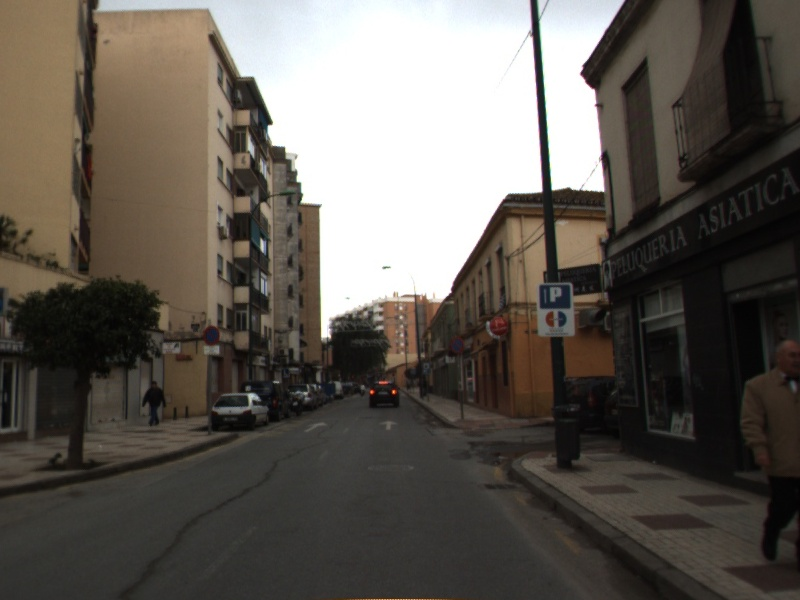STRAIGHT: (301, 419, 330, 434), (377, 418, 401, 432)
